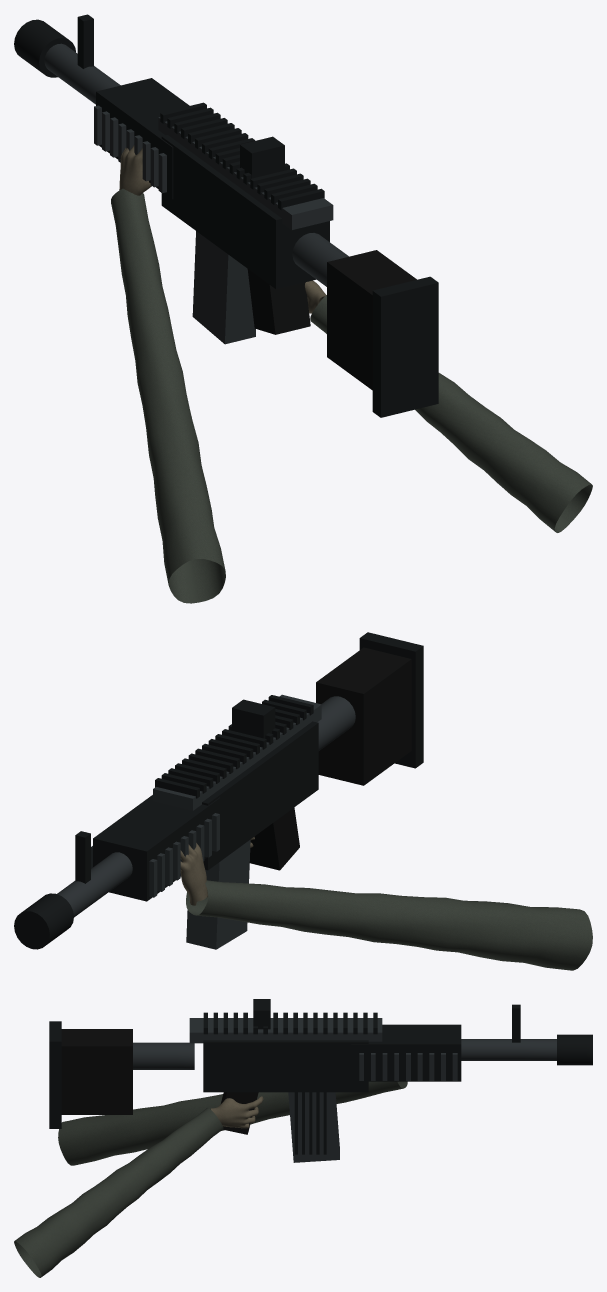
The picture shows the model from 3 angles, top to bottom: view 1: azimuth 30°, elevation 25°; view 2: azimuth 150°, elevation 25°; view 3: azimuth 270°, elevation 25°; orthographic projection. The views are drawn at different scales.
Visible parts, largest first — view 1: ReceiverMesh, Sleeve L, Sleeve R, MagazineMesh, Anatomical glove L; view 2: ReceiverMesh, Sleeve L, MagazineMesh, Anatomical glove L; view 3: ReceiverMesh, Sleeve R, Sleeve L, MagazineMesh, Anatomical glove R.
Part boxes in pixels (x1,y1,x2,y2): ReceiverMesh: [14, 14, 438, 417]; Sleeve L: [111, 188, 225, 603]; Sleeve R: [310, 295, 592, 532]; MagazineMesh: [192, 231, 255, 344]; Anatomical glove L: [119, 145, 151, 195]; ReceiverMesh: [14, 632, 423, 949]; Sleeve L: [186, 880, 592, 970]; MagazineMesh: [186, 839, 250, 949]; Anatomical glove L: [180, 843, 207, 905]; ReceiverMesh: [49, 999, 592, 1134]; Sleeve R: [14, 1107, 223, 1277]; Sleeve L: [58, 1081, 407, 1165]; MagazineMesh: [288, 1092, 339, 1162]; Anatomical glove R: [210, 1096, 263, 1128].
Size of the model in its own units: 0.9511 by 0.7319 by 1.68.
5 materials, 2 textured.
